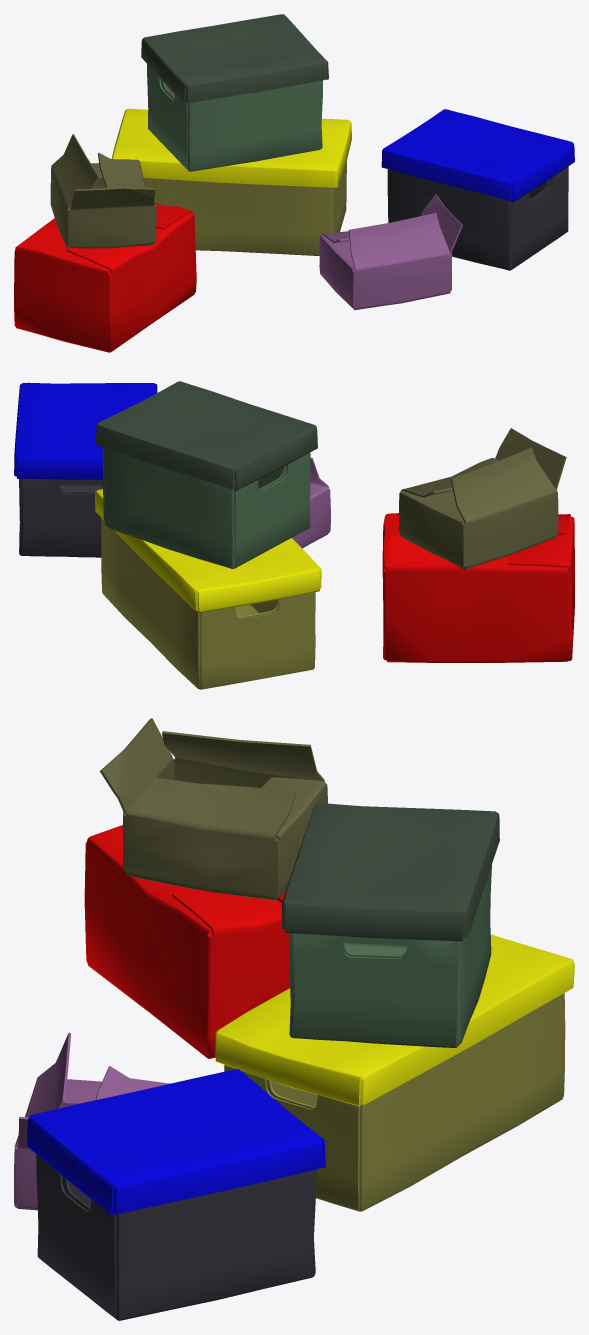
File: BOXES UV CORTE.fbx
The picture shows the model from 3 angles, top to bottom: view 1: azimuth 30°, elevation 25°; view 2: azimuth 150°, elevation 25°; view 3: azimuth 270°, elevation 25°; orthographic projection. The views are drawn at different scales.
Parts seen in each view (by area): view 1: CaseBoxes:BoxC, CaseBoxes:BoxB_corte, CaseBoxes:BoxB_lid, CaseBoxes:a, CaseBoxes:C, CaseBoxes:D, CaseBoxes:C1, CaseBoxes:BoxD001, CaseBoxes:a1; view 2: CaseBoxes:BoxC, CaseBoxes:a, CaseBoxes:BoxB_corte, CaseBoxes:BoxD001, CaseBoxes:BoxB_lid, CaseBoxes:C, CaseBoxes:a1, CaseBoxes:C1, CaseBoxes:D; view 3: CaseBoxes:C1, CaseBoxes:BoxD001, CaseBoxes:C, CaseBoxes:a, CaseBoxes:BoxC, CaseBoxes:BoxB_lid, CaseBoxes:BoxB_corte, CaseBoxes:a1, CaseBoxes:D.
Part boxes in pixels (x1,y1,x2,y2): CaseBoxes:BoxC: (14, 203, 196, 352); CaseBoxes:BoxB_corte: (147, 64, 322, 171); CaseBoxes:BoxB_lid: (141, 14, 328, 103); CaseBoxes:a: (143, 161, 346, 255); CaseBoxes:C: (381, 109, 574, 202); CaseBoxes:D: (319, 194, 462, 310); CaseBoxes:C1: (387, 166, 568, 270); CaseBoxes:BoxD001: (50, 134, 156, 248); CaseBoxes:a1: (111, 108, 351, 187); CaseBoxes:BoxC: (382, 513, 574, 662); CaseBoxes:a: (101, 518, 315, 689); CaseBoxes:BoxB_corte: (102, 447, 310, 568); CaseBoxes:BoxD001: (399, 428, 566, 569); CaseBoxes:BoxB_lid: (96, 381, 317, 490); CaseBoxes:C: (14, 382, 157, 479); CaseBoxes:a1: (95, 489, 321, 612); CaseBoxes:C1: (19, 479, 102, 557); CaseBoxes:D: (292, 457, 330, 548); CaseBoxes:C1: (36, 1154, 316, 1320); CaseBoxes:BoxD001: (100, 718, 327, 900); CaseBoxes:C: (27, 1069, 325, 1215); CaseBoxes:a: (224, 993, 565, 1211); CaseBoxes:BoxC: (84, 825, 290, 1058); CaseBoxes:BoxB_lid: (282, 803, 499, 941); CaseBoxes:BoxB_corte: (289, 865, 491, 1047); CaseBoxes:a1: (215, 934, 574, 1106); CaseBoxes:D: (14, 1032, 169, 1210).
Bounding box in the file's own units: 175 × 58.84 × 105.
